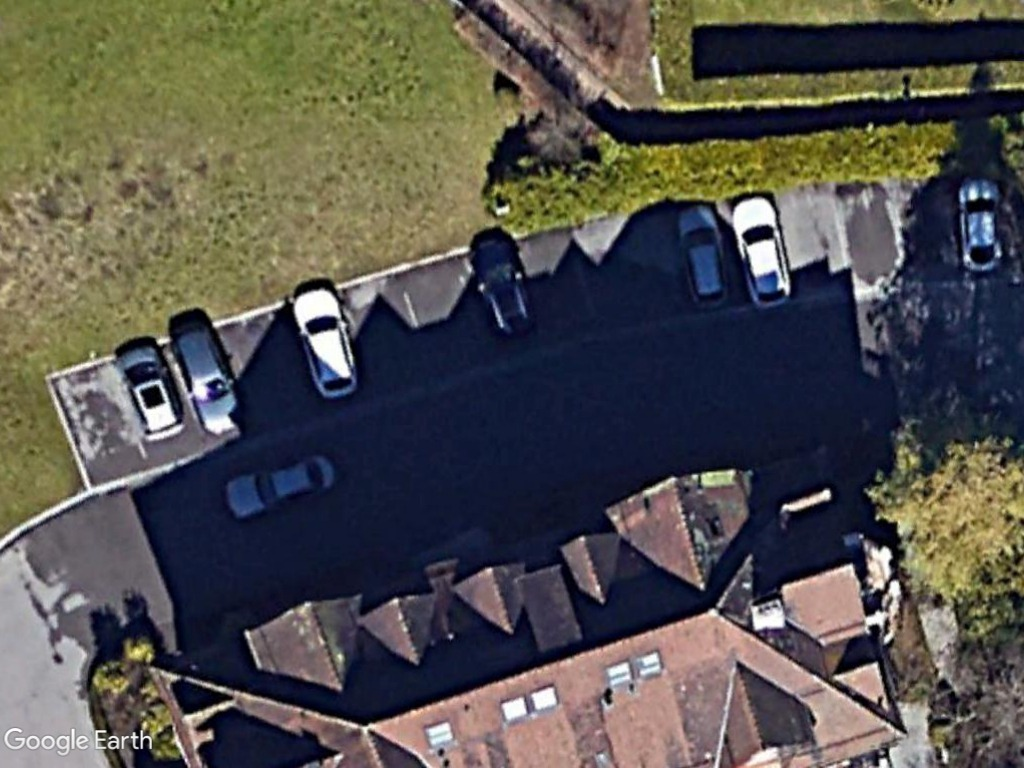car: (166, 319, 248, 436), (287, 288, 364, 398), (220, 453, 337, 523), (471, 233, 538, 345), (112, 345, 186, 446), (728, 194, 791, 306), (672, 205, 732, 310), (954, 174, 1007, 275)
